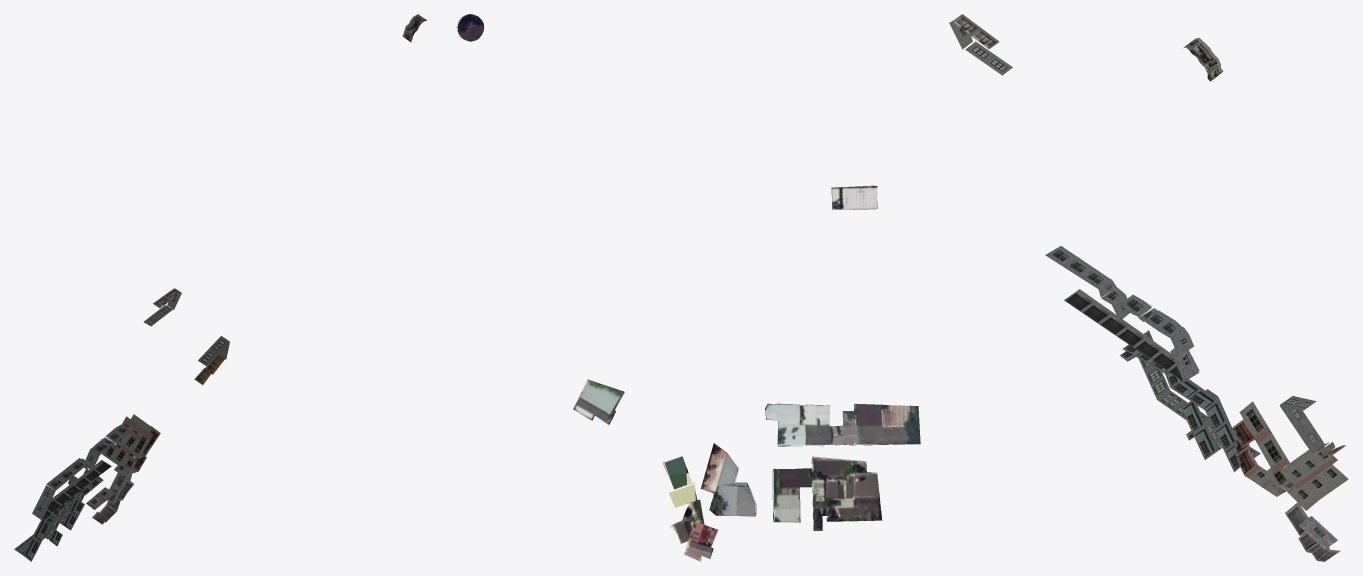
Rendered from tile_LOD4_r15_c4.glb.
The picture shows the model from 3 angles, left to right: view 1: azimuth 30°, elevation 25°; view 2: azimuth 150°, elevation 25°; view 3: azimuth 270°, elevation 25°; orthographic projection. The views are drawn at different scales.
Size of the model in its own units: 147 by 151 by 75.
Materials: 29 (29 with a texture image).
